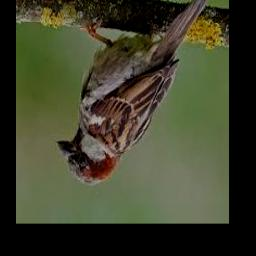Sparrow: (56, 0, 210, 185)
